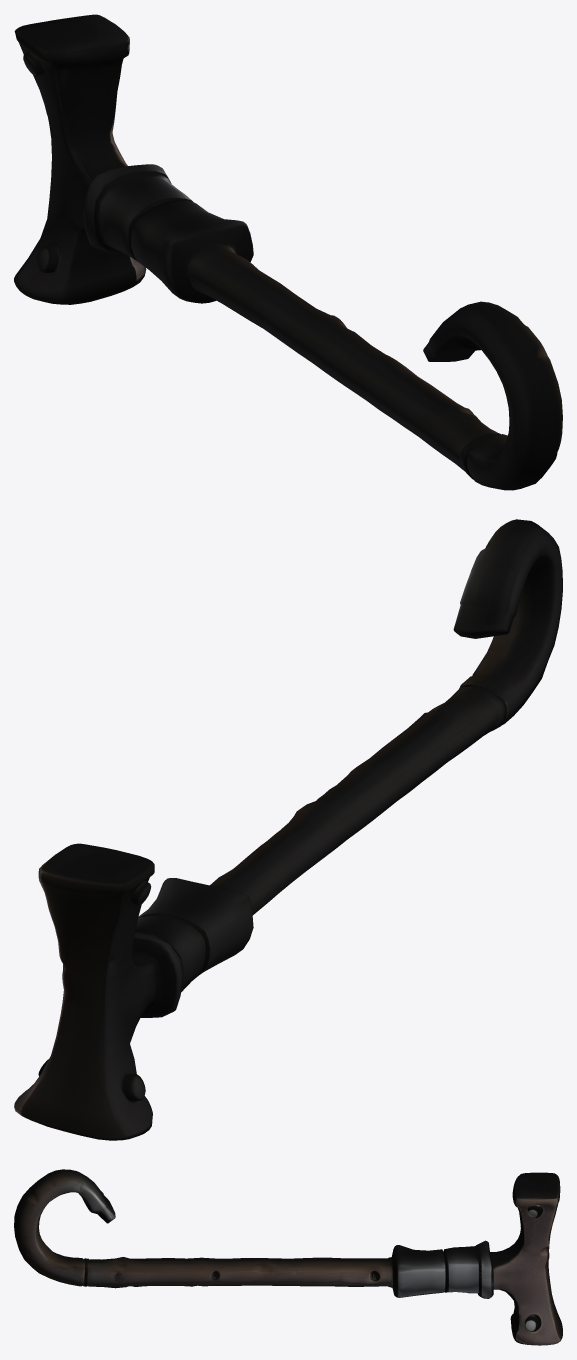
Rendered from crowbar.glb.
3 renders of one model, top to bottom at view 1: azimuth 30°, elevation 25°; view 2: azimuth 150°, elevation 25°; view 3: azimuth 270°, elevation 25°, orthographic. The views are drawn at different scales.
Visible parts, largest first — view 1: tripo_node_18f54338-2e3f-40e4-9b11-8ad61550f7cd; view 2: tripo_node_18f54338-2e3f-40e4-9b11-8ad61550f7cd; view 3: tripo_node_18f54338-2e3f-40e4-9b11-8ad61550f7cd.
Boxes of the visible parts, x1,y1,x2,y2 form: tripo_node_18f54338-2e3f-40e4-9b11-8ad61550f7cd: [14, 14, 562, 490]; tripo_node_18f54338-2e3f-40e4-9b11-8ad61550f7cd: [14, 519, 562, 1140]; tripo_node_18f54338-2e3f-40e4-9b11-8ad61550f7cd: [14, 1169, 562, 1345].
Bounding box in the file's own units: 0.1153 × 0.2575 × 0.8.
Materials: 1 (1 with a texture image).
